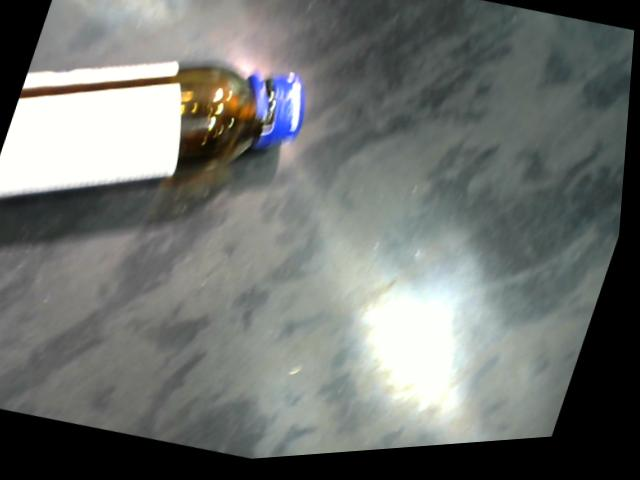bottle: (0, 64, 308, 198)
